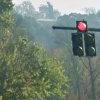Traffic light: (66, 14, 98, 67)
